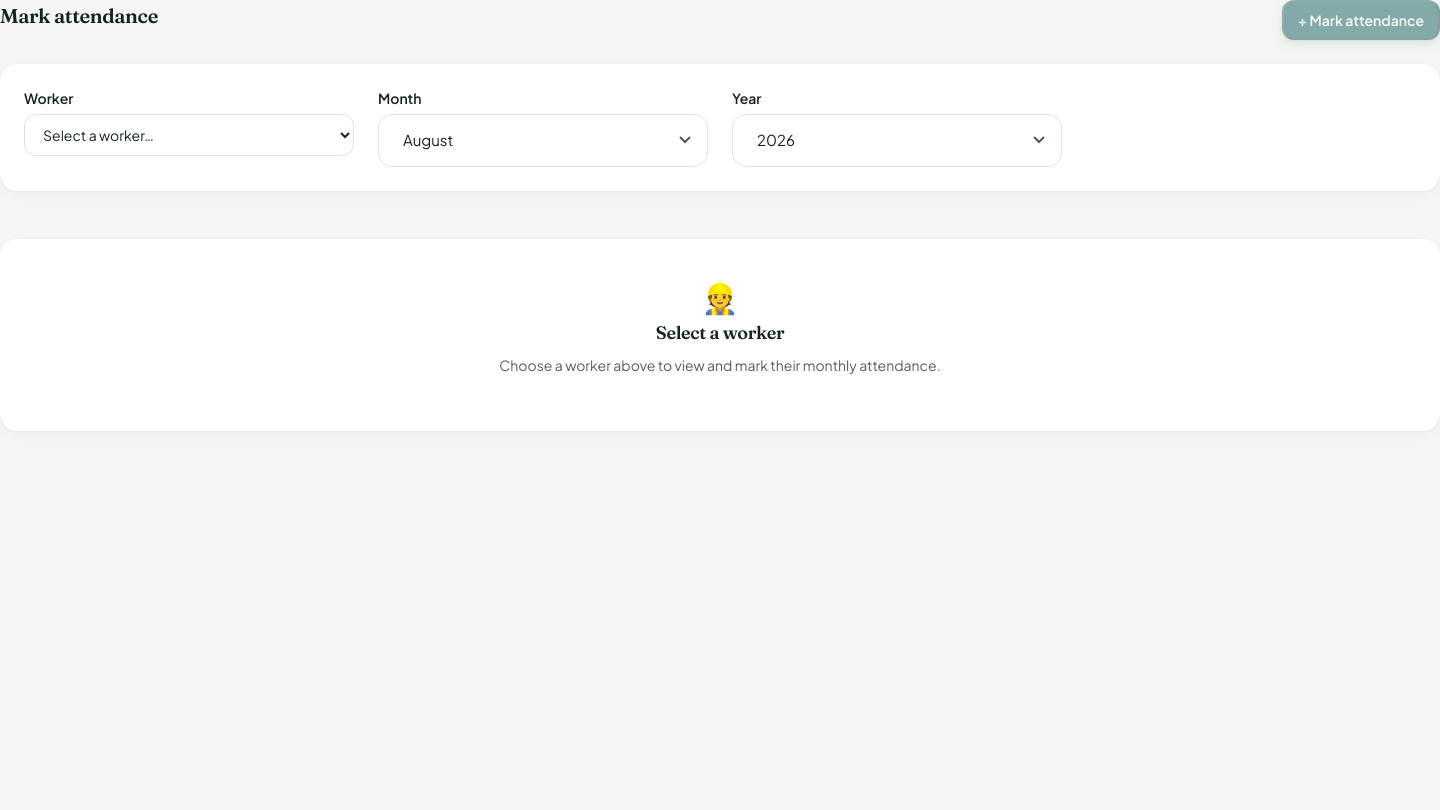
it: MarkAttendance › loads only the employer’s ASSIGNED jobs into the picker
The width and height of the screenshot is (1440, 810).
Select "Ana (ana@example.com)" in the dropdown labelled "Worker". click: [189, 135]
box: left=24, top=114, right=354, bottom=156
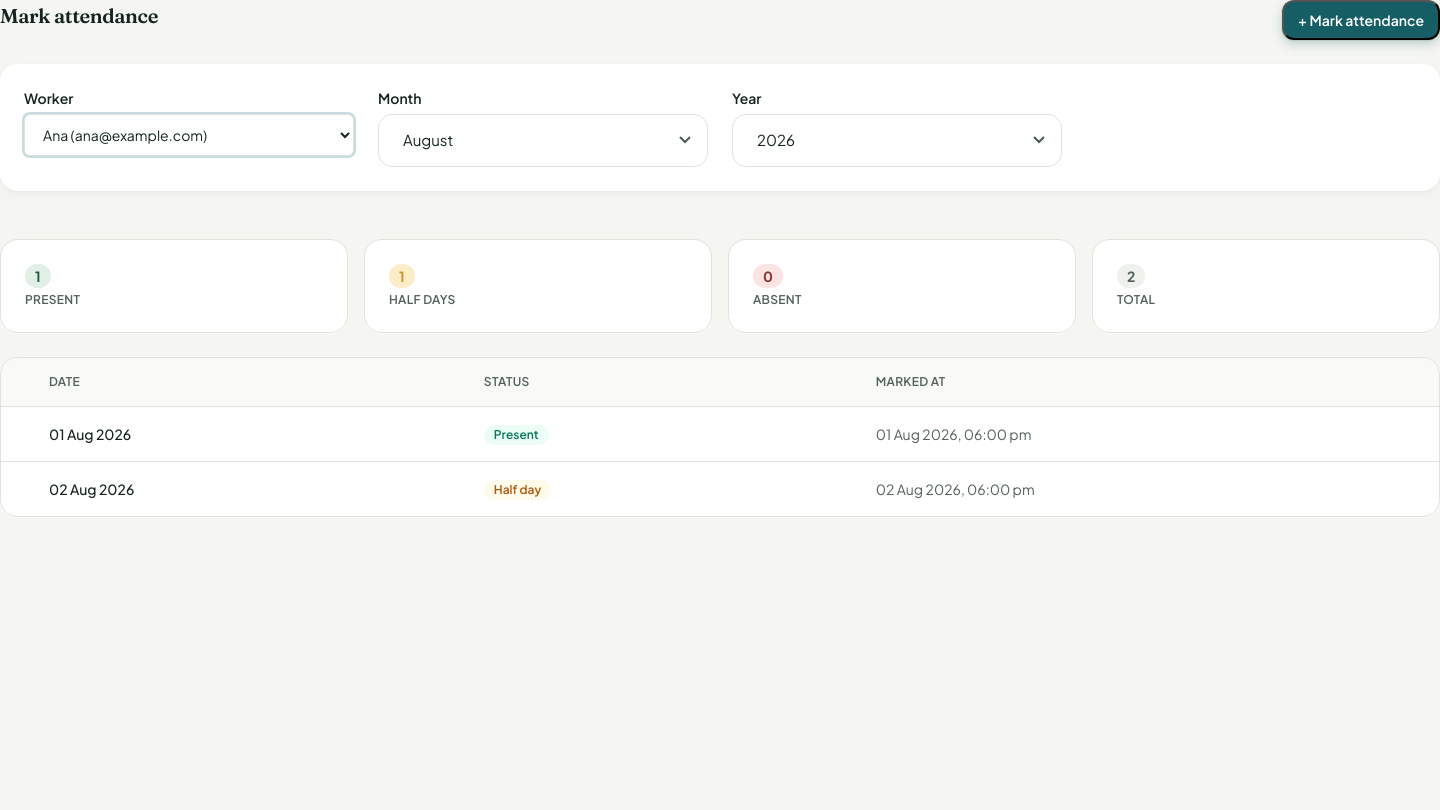
Click the button "+ Mark attendance". click: [1361, 20]
box: left=1282, top=0, right=1439, bottom=40
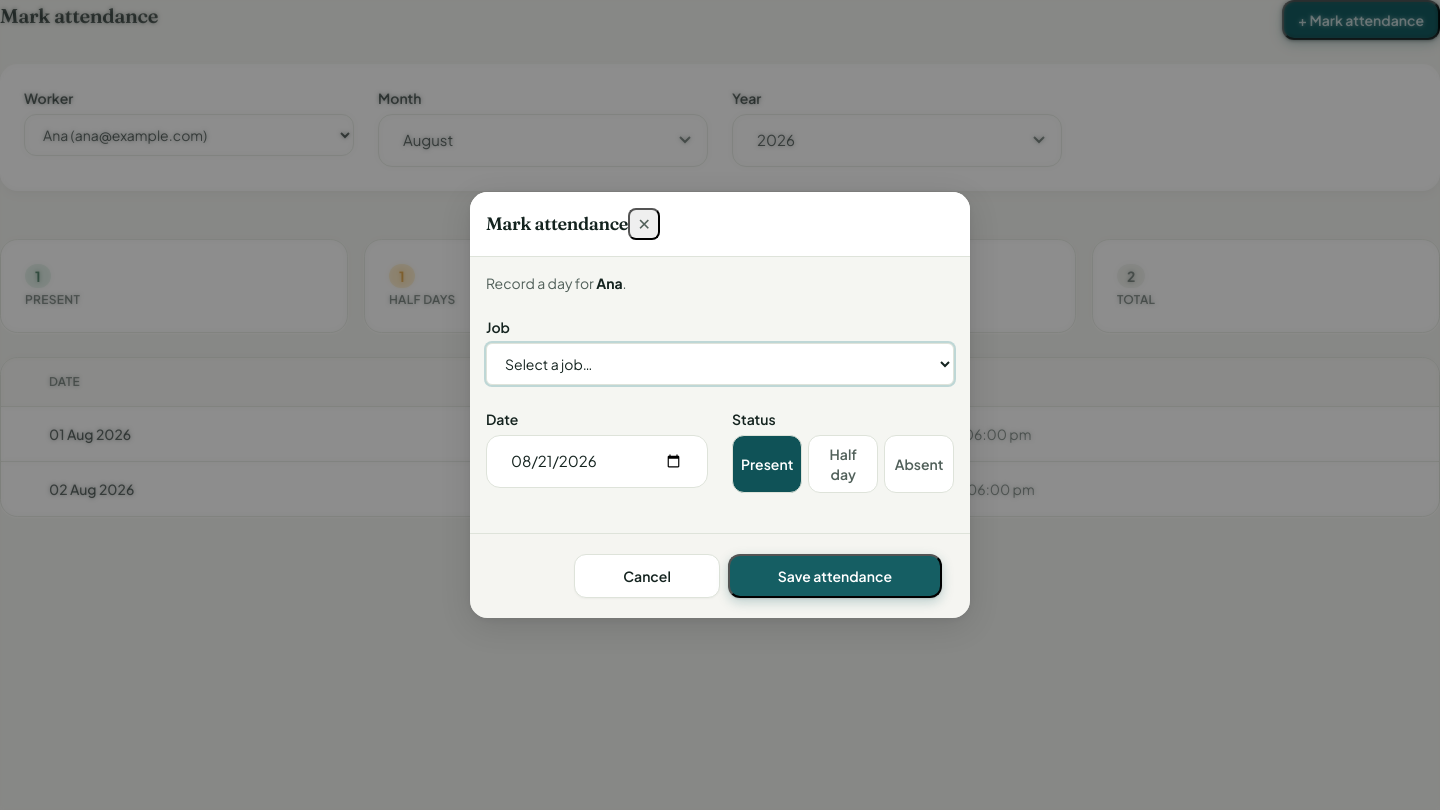
Expected: the dialog shows "Ana", left=596, top=274, right=623, bottom=292
